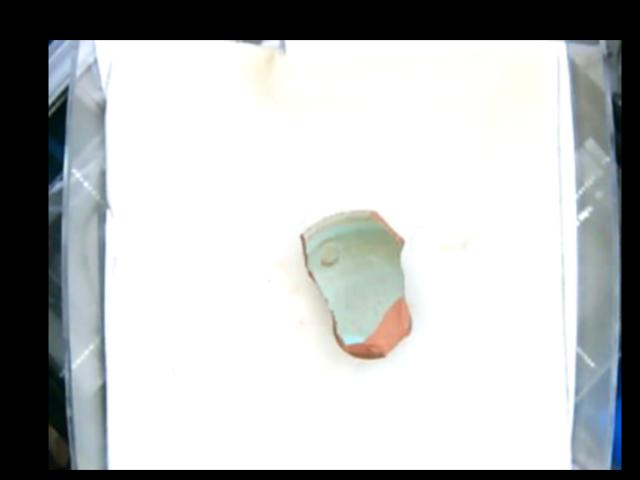China: (295, 208, 411, 358)
